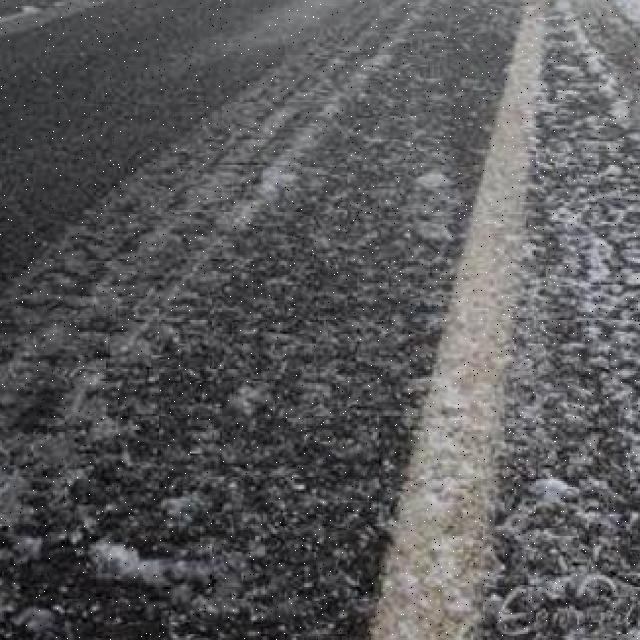ice-road: (0, 0, 522, 640), (485, 0, 640, 640)
